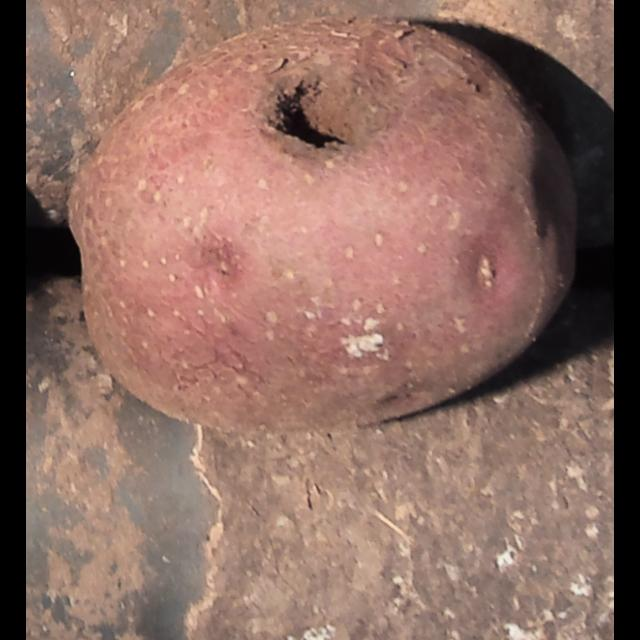Diseased-fungal potato: (57, 2, 586, 450)
